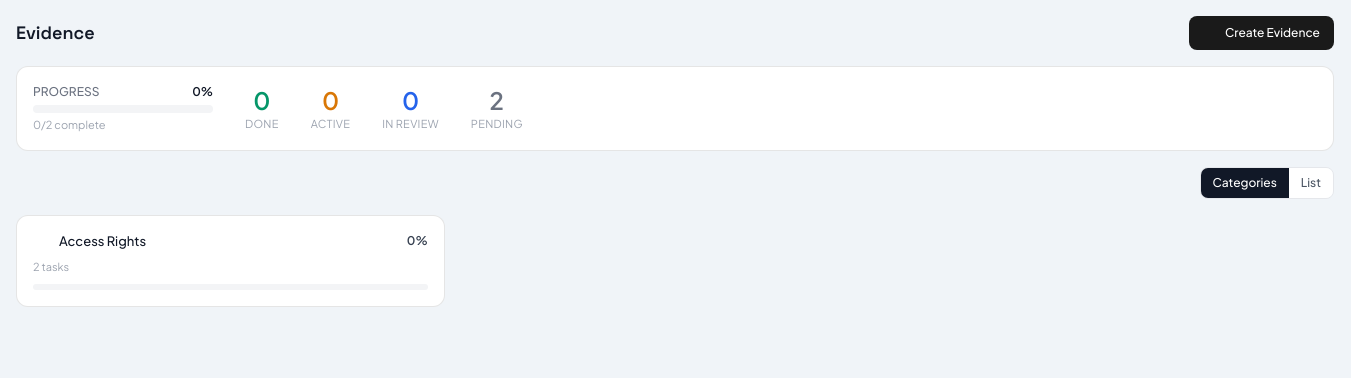
it: Soc2ProgramPage write actions › shows the assignee name when a task has an owner, and "Unassigned" otherwise
Step 1. Click the button "List" → (1311, 182), box [1289, 168, 1333, 198]
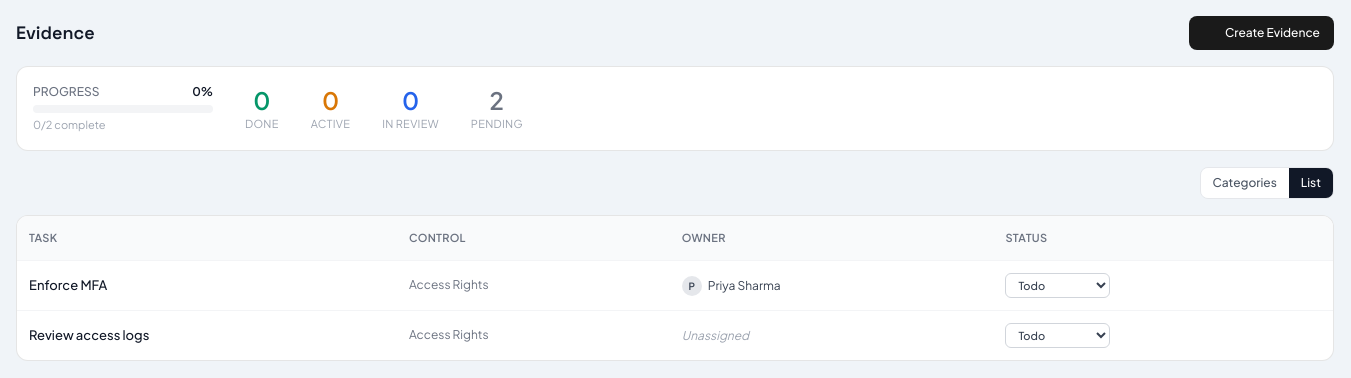
Result: the text "Priya Sharma" is shown at [708, 276, 781, 296]
Result: the text "Unassigned" is shown at [682, 328, 749, 343]
